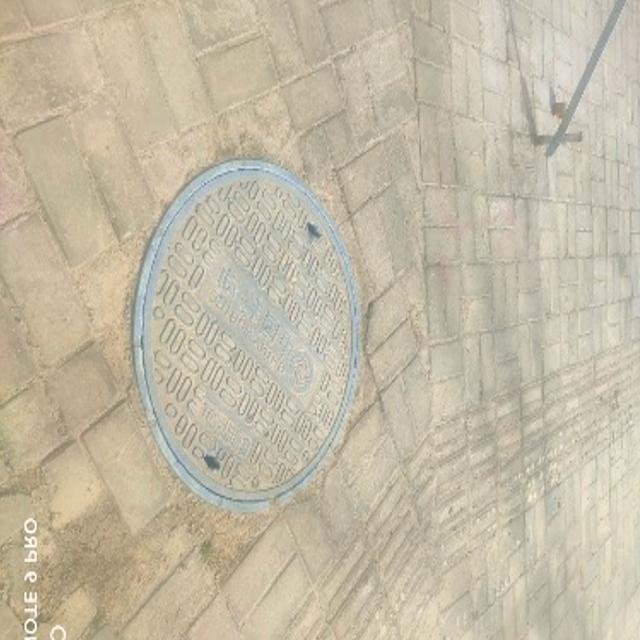good: (131, 158, 360, 510)
